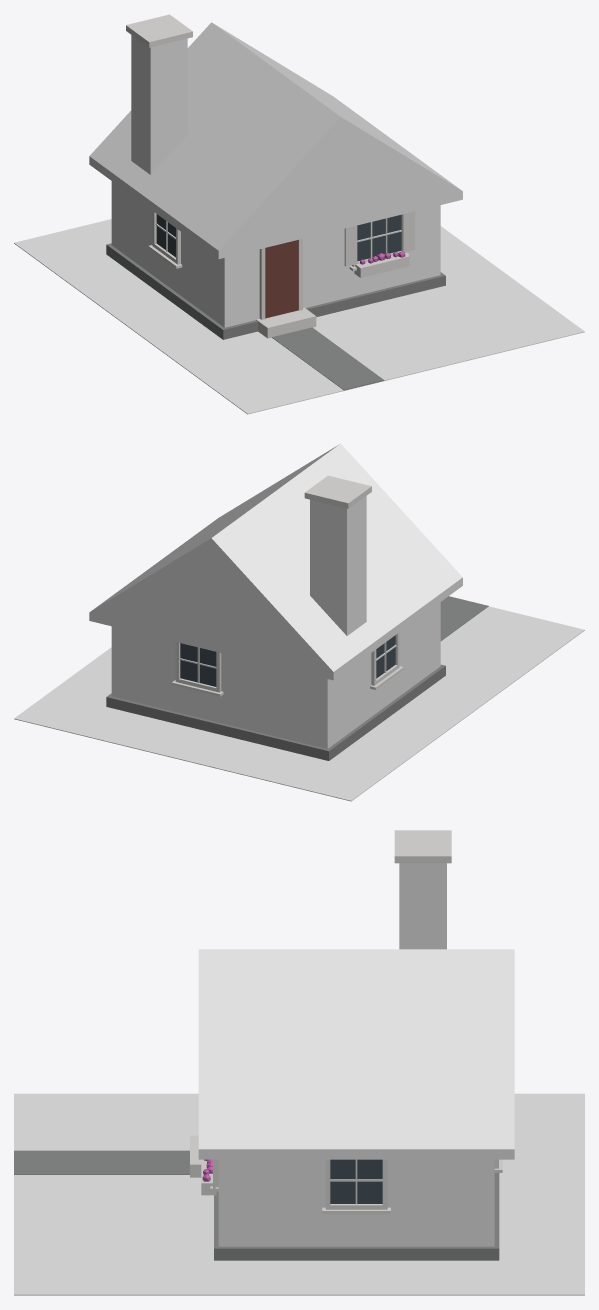
The model's file is city_cottage.fbx.
3 renders of one model, top to bottom at view 1: azimuth 30°, elevation 25°; view 2: azimuth 150°, elevation 25°; view 3: azimuth 270°, elevation 25°, orthographic. The views are drawn at different scales.
Visible parts, largest first — view 1: roof0_1, grass_1, render3_1, brick_1, concrete_1, trim_1, door_1, glass_1; view 2: roof0_1, grass_1, render3_1, brick_1, concrete_1, trim_1, glass_1; view 3: roof0_1, grass_1, render3_1, concrete_1, trim_1, brick_1, glass_1.
Boxes of the visible parts, x1=… form: roof0_1: x1=89, y1=22, x2=462, y2=258; grass_1: x1=14, y1=219, x2=584, y2=414; render3_1: x1=111, y1=181, x2=440, y2=327; brick_1: x1=131, y1=35, x2=187, y2=273; concrete_1: x1=106, y1=243, x2=445, y2=390; trim_1: x1=126, y1=14, x2=415, y2=338; door_1: x1=265, y1=240, x2=298, y2=318; glass_1: x1=156, y1=214, x2=401, y2=261; roof0_1: x1=89, y1=443, x2=462, y2=680; grass_1: x1=14, y1=606, x2=584, y2=801; render3_1: x1=111, y1=602, x2=440, y2=748; brick_1: x1=310, y1=496, x2=366, y2=732; concrete_1: x1=106, y1=596, x2=488, y2=760; trim_1: x1=171, y1=475, x2=403, y2=696; glass_1: x1=180, y1=635, x2=395, y2=686; roof0_1: x1=198, y1=949, x2=514, y2=1159; grass_1: x1=14, y1=1093, x2=584, y2=1295; render3_1: x1=218, y1=1159, x2=494, y2=1246; concrete_1: x1=14, y1=1150, x2=499, y2=1260; trim_1: x1=190, y1=830, x2=502, y2=1214; brick_1: x1=399, y1=863, x2=446, y2=949; glass_1: x1=330, y1=1159, x2=382, y2=1203.
Bounding box in the file's own units: 1 × 0.692 × 1.2.
